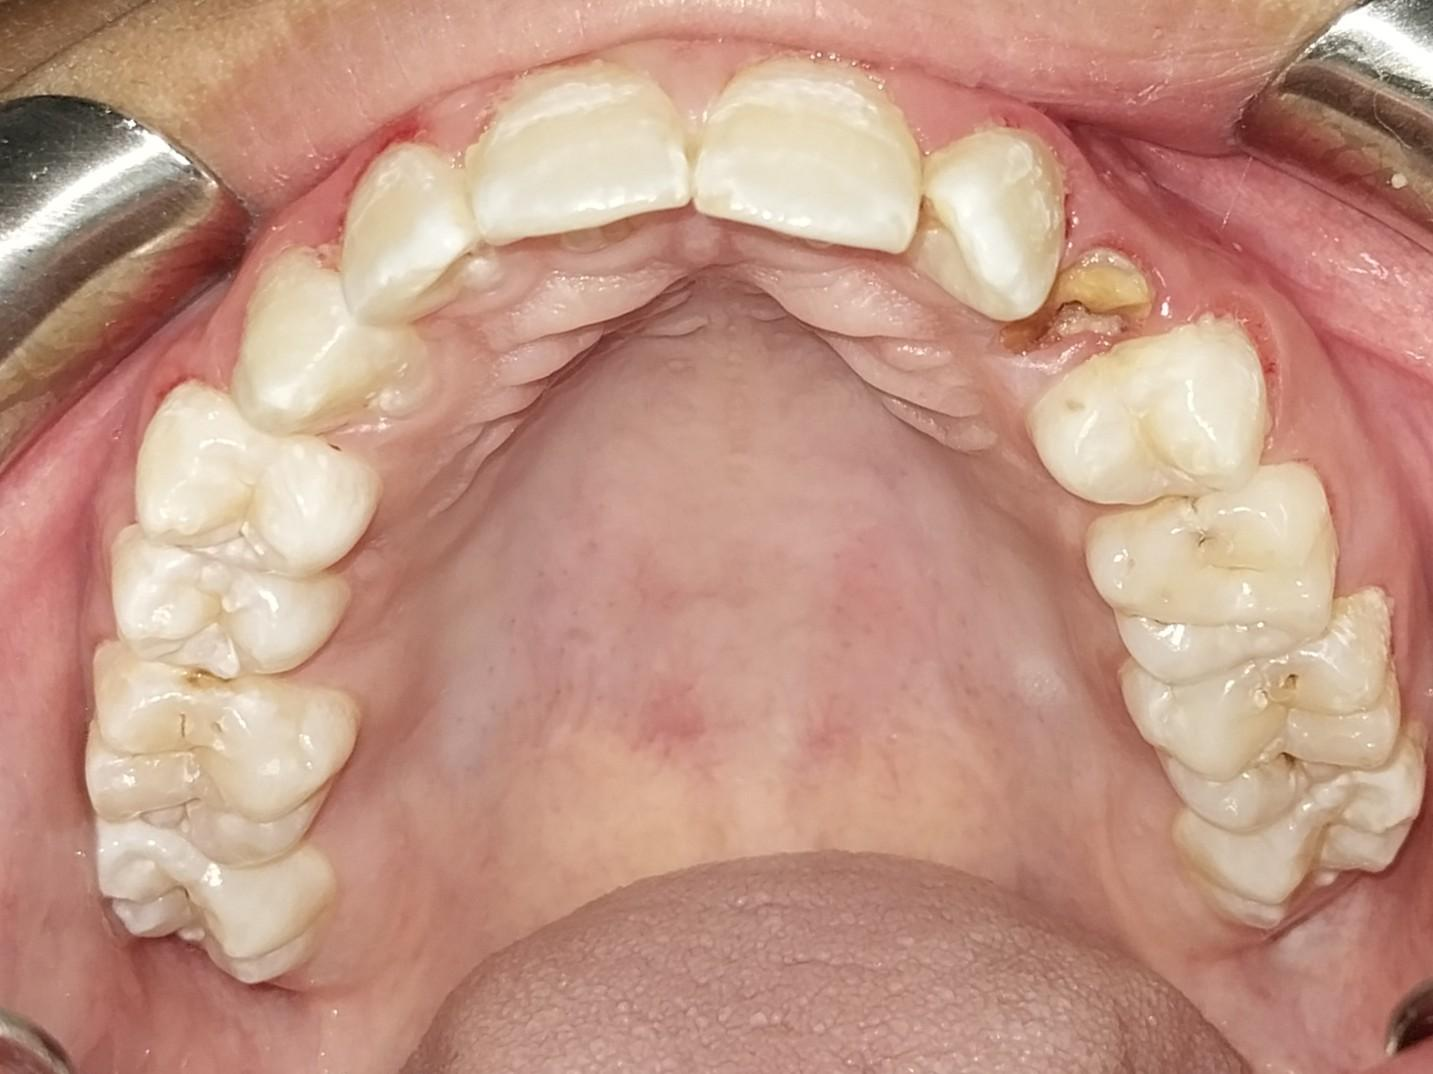D: (1117, 585, 1406, 831), (81, 640, 358, 876)
d: (1087, 459, 1337, 663), (997, 235, 1163, 370)
